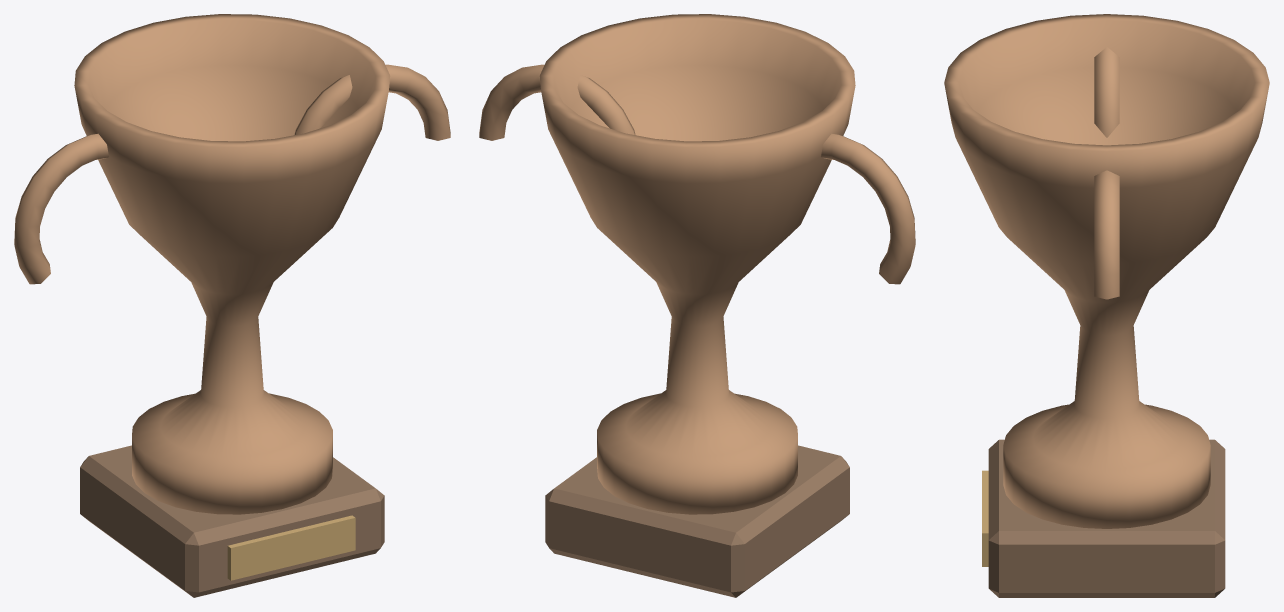
Rendered from Garage_Cup_B.glb.
3 renders of one model, left to right at view 1: azimuth 30°, elevation 25°; view 2: azimuth 150°, elevation 25°; view 3: azimuth 270°, elevation 25°, orthographic. The views are drawn at different scales.
Visible parts, largest first — view 1: Garage_Cup_B; view 2: Garage_Cup_B; view 3: Garage_Cup_B.
Boxes of the visible parts, x1,y1,x2,y2 form: Garage_Cup_B: (14,14,450,597); Garage_Cup_B: (479,14,915,597); Garage_Cup_B: (944,14,1269,597).
Size of the model in its own units: 0.2973 by 0.2975 by 0.187.
